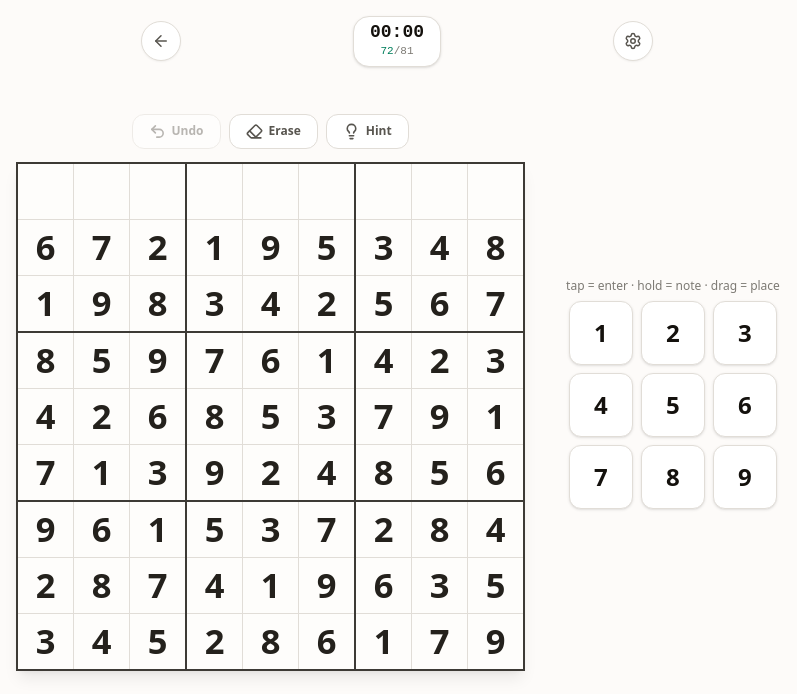
Test case: SoloGame numpad selection › closes the settings popover on Escape and returns focus to the gear
This screenshot has width=797, height=694.
Click the button named "Settings" at (633, 41), box [613,21,653,61]
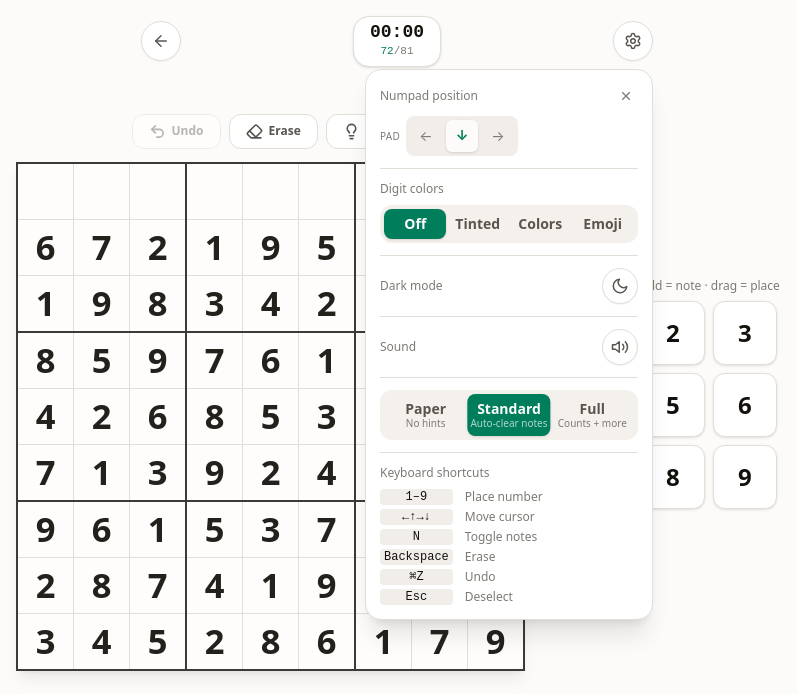
Result: the text "Numpad position" is shown at [380,88,478,104]
Press Escape
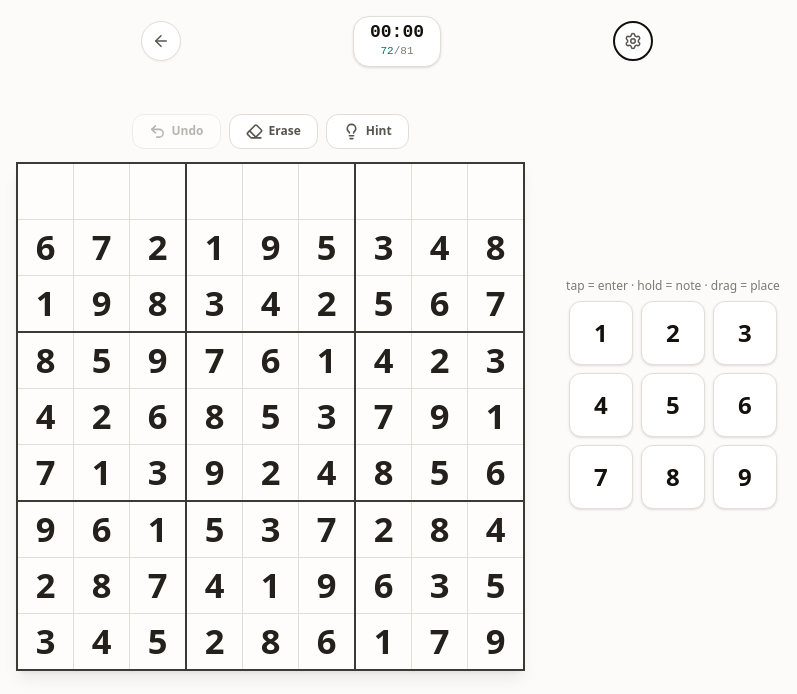
Result: the text "Numpad position" is gone
